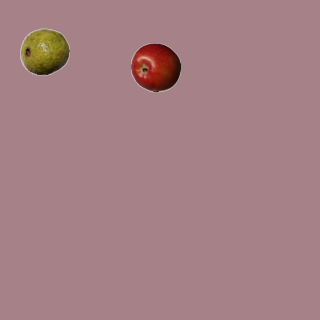Apple Braeburn: (130, 42, 180, 92)
Guava: (19, 26, 69, 76)
